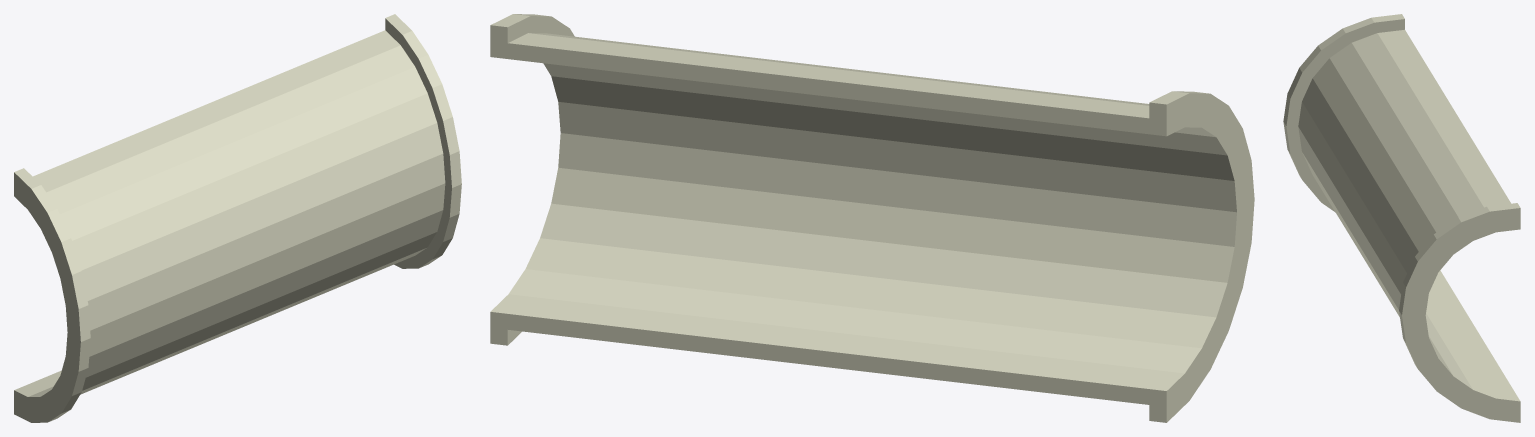
The model's file is section_244.obj.
3 renders of one model, left to right at view 1: azimuth 30°, elevation 25°; view 2: azimuth 150°, elevation 25°; view 3: azimuth 270°, elevation 25°, orthographic. The views are drawn at different scales.
Bounding box in the file's own units: 38.69 × 20 × 20.
